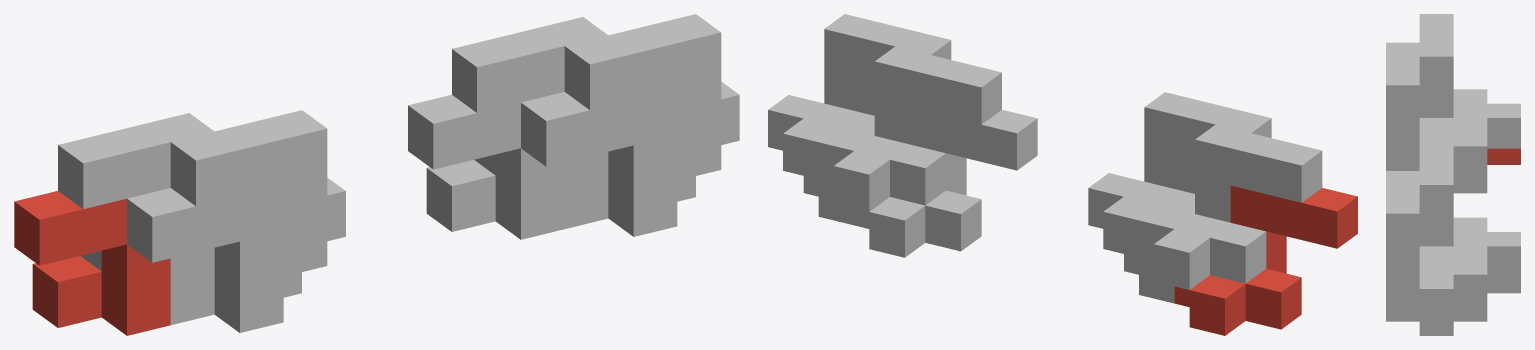
The model's file is tiling.obj.
3 renders of one model, left to right at view 1: azimuth 30°, elevation 25°; view 2: azimuth 150°, elevation 25°; view 3: azimuth 270°, elevation 25°, orthographic. The views are drawn at different scales.
Parts seen in each view (by area): view 1: copy_1_domain_6, copy_1_domain_2, copy_1_domain_5, copy_1_domain_1, copy_1_domain_4, copy_1_domain_8, copy_1_domain_3, copy_1_domain_7; view 2: copy_1_domain_7, copy_1_domain_3, copy_1_domain_5, copy_1_domain_1, copy_1_domain_8, copy_1_domain_4, copy_1_domain_6, copy_1_domain_2; view 3: copy_1_domain_8, copy_1_domain_4, copy_1_domain_3, copy_1_domain_7, copy_1_domain_6, copy_1_domain_2, copy_1_domain_1, copy_1_domain_5.
Part boxes in pixels (x1=…): copy_1_domain_6: x1=521, y1=89, x2=695, y2=236; copy_1_domain_2: x1=127, y1=185, x2=301, y2=332; copy_1_domain_5: x1=408, y1=94, x2=564, y2=239; copy_1_domain_1: x1=14, y1=191, x2=170, y2=335; copy_1_domain_4: x1=170, y1=110, x2=345, y2=276; copy_1_domain_8: x1=564, y1=14, x2=739, y2=180; copy_1_domain_3: x1=58, y1=113, x2=214, y2=279; copy_1_domain_7: x1=452, y1=17, x2=608, y2=183; copy_1_domain_7: x1=818, y1=46, x2=1001, y2=211; copy_1_domain_3: x1=1139, y1=124, x2=1322, y2=289; copy_1_domain_5: x1=854, y1=107, x2=1037, y2=257; copy_1_domain_1: x1=1174, y1=185, x2=1357, y2=335; copy_1_domain_8: x1=768, y1=14, x2=951, y2=179; copy_1_domain_4: x1=1088, y1=92, x2=1271, y2=257; copy_1_domain_6: x1=803, y1=75, x2=874, y2=225; copy_1_domain_2: x1=1124, y1=153, x2=1194, y2=303; copy_1_domain_8: x1=1386, y1=171, x2=1487, y2=319; copy_1_domain_4: x1=1386, y1=42, x2=1487, y2=176; copy_1_domain_3: x1=1419, y1=14, x2=1520, y2=148; copy_1_domain_7: x1=1419, y1=142, x2=1520, y2=276; copy_1_domain_6: x1=1386, y1=305, x2=1487, y2=335; copy_1_domain_2: x1=1453, y1=177, x2=1487, y2=193; copy_1_domain_1: x1=1487, y1=148, x2=1520, y2=164; copy_1_domain_5: x1=1487, y1=277, x2=1520, y2=293.
Bounding box in the file's own units: 16 × 4 × 4.
